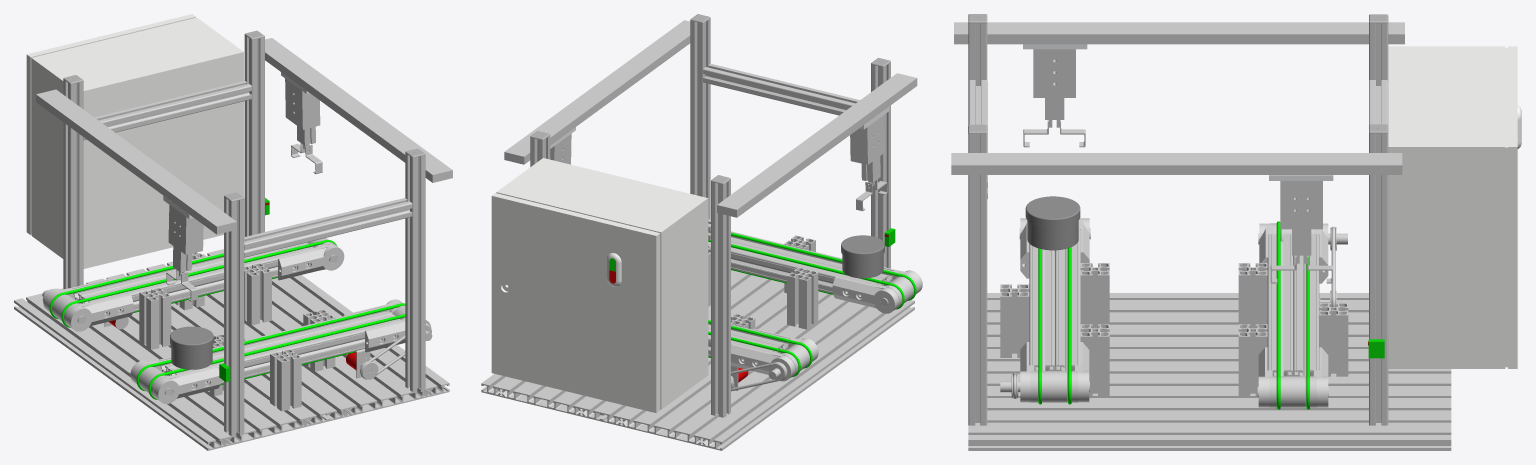
Rendered from pick_and_place.glb.
The picture shows the model from 3 angles, left to right: view 1: azimuth 30°, elevation 25°; view 2: azimuth 150°, elevation 25°; view 3: azimuth 270°, elevation 25°; orthographic projection. The views are drawn at different scales.
Visible parts, largest first — view 1: mesh669_meshnode_669, mesh667_meshnode_667, mesh662_meshnode_662, mesh526_meshnode_526.001, mesh526_meshnode_526, mesh98_meshnode_98.001, mesh108_meshnode_108.001, mesh527_meshnode_527.001, mesh88_meshnode_88.001, mesh98_meshnode_98, mesh58_meshnode_58, mesh525_meshnode_525 (+72 smaller); view 2: mesh670_meshnode_670, mesh662_meshnode_662, mesh667_meshnode_667, mesh526_meshnode_526.001, mesh526_meshnode_526, mesh98_meshnode_98.001, mesh88_meshnode_88.001, mesh108_meshnode_108.001, mesh527_meshnode_527.001, mesh78_meshnode_78.001, mesh525_meshnode_525, mesh68_meshnode_68.001 (+33 smaller); view 3: mesh659_meshnode_659, mesh667_meshnode_667, mesh526_meshnode_526, mesh526_meshnode_526.001, mesh58_meshnode_58, mesh68_meshnode_68, mesh525_meshnode_525.001, mesh527_meshnode_527, mesh78_meshnode_78, mesh98_meshnode_98, mesh88_meshnode_88, mesh128_meshnode_128 (+52 smaller).
Boxes of the visible parts, bbox=[...] form: mesh669_meshnode_669: bbox=[83, 52, 243, 268]; mesh667_meshnode_667: bbox=[32, 17, 243, 90]; mesh662_meshnode_662: bbox=[31, 58, 63, 258]; mesh526_meshnode_526.001: bbox=[36, 89, 236, 226]; mesh526_meshnode_526: bbox=[265, 38, 452, 174]; mesh98_meshnode_98.001: bbox=[26, 293, 231, 438]; mesh108_meshnode_108.001: bbox=[14, 298, 215, 441]; mesh527_meshnode_527.001: bbox=[36, 94, 216, 234]; mesh88_meshnode_88.001: bbox=[60, 288, 255, 433]; mesh98_meshnode_98: bbox=[147, 264, 356, 409]; mesh58_meshnode_58: bbox=[272, 278, 436, 389]; mesh525_meshnode_525: bbox=[265, 52, 432, 182]; mesh670_meshnode_670: bbox=[491, 196, 656, 412]; mesh662_meshnode_662: bbox=[661, 198, 708, 409]; mesh667_meshnode_667: bbox=[496, 158, 707, 232]; mesh526_meshnode_526.001: bbox=[717, 73, 916, 209]; mesh526_meshnode_526: bbox=[504, 20, 690, 156]; mesh98_meshnode_98.001: bbox=[694, 306, 881, 438]; mesh88_meshnode_88.001: bbox=[674, 302, 865, 434]; mesh108_meshnode_108.001: bbox=[714, 300, 914, 441]; mesh527_meshnode_527.001: bbox=[737, 78, 917, 217]; mesh78_meshnode_78.001: bbox=[654, 294, 845, 429]; mesh525_meshnode_525: bbox=[524, 35, 690, 164]; mesh68_meshnode_68.001: bbox=[634, 291, 827, 424]; mesh659_meshnode_659: bbox=[1388, 147, 1505, 368]; mesh667_meshnode_667: bbox=[1388, 46, 1505, 146]; mesh526_meshnode_526: bbox=[951, 153, 1402, 165]; mesh526_meshnode_526.001: bbox=[954, 22, 1404, 34]; mesh58_meshnode_58: bbox=[968, 422, 1451, 432]; mesh68_meshnode_68: bbox=[987, 410, 1451, 420]; mesh525_meshnode_525.001: bbox=[954, 34, 1404, 44]; mesh527_meshnode_527: bbox=[951, 165, 1402, 174]; mesh78_meshnode_78: bbox=[987, 398, 1451, 407]; mesh98_meshnode_98: bbox=[987, 373, 1451, 383]; mesh88_meshnode_88: bbox=[987, 386, 1451, 395]; mesh128_meshnode_128: bbox=[968, 435, 1451, 439].
Bounding box in the file's own units: 0.6362 × 0.522 × 0.8852.
